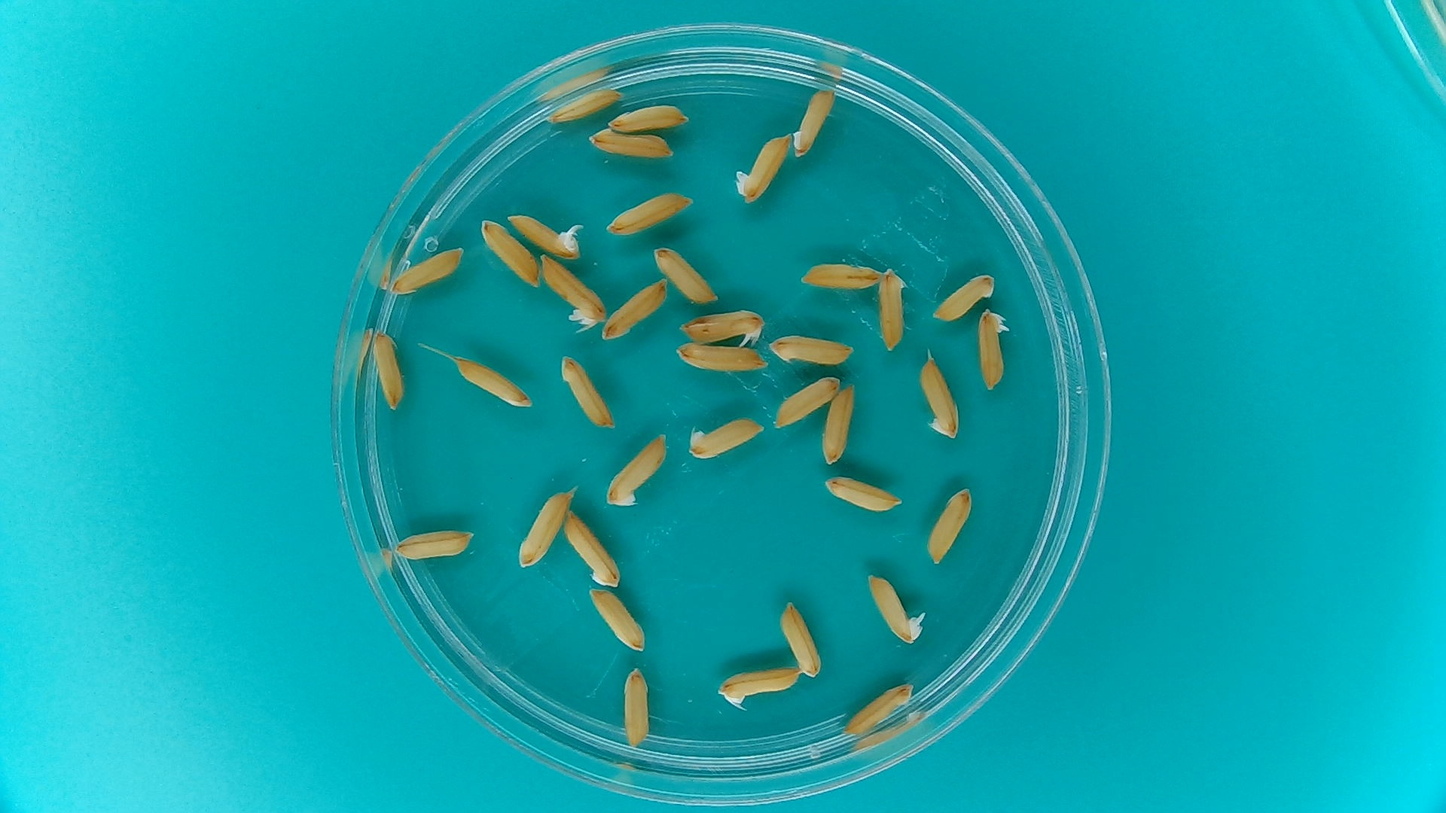no: (606, 430, 671, 508), (516, 487, 573, 571), (540, 254, 609, 323), (564, 510, 624, 588), (731, 132, 792, 208), (478, 218, 539, 288), (454, 357, 532, 410), (389, 244, 465, 298), (917, 352, 964, 439), (652, 245, 721, 304), (602, 278, 667, 340), (560, 354, 614, 428), (588, 587, 648, 653), (842, 682, 914, 737), (606, 191, 694, 235), (717, 666, 800, 711), (928, 486, 975, 565), (686, 416, 767, 461), (774, 377, 841, 431), (792, 87, 837, 162), (779, 600, 822, 678), (368, 327, 406, 413), (822, 473, 902, 513), (933, 273, 995, 323), (545, 87, 622, 126), (392, 528, 476, 563), (588, 127, 676, 159), (978, 306, 1011, 391), (768, 333, 855, 365), (675, 343, 767, 373), (621, 665, 653, 751), (822, 384, 855, 466), (609, 103, 690, 135), (879, 267, 908, 353), (800, 261, 881, 291)
yes: (865, 569, 927, 647), (676, 308, 767, 352), (508, 211, 586, 258)
